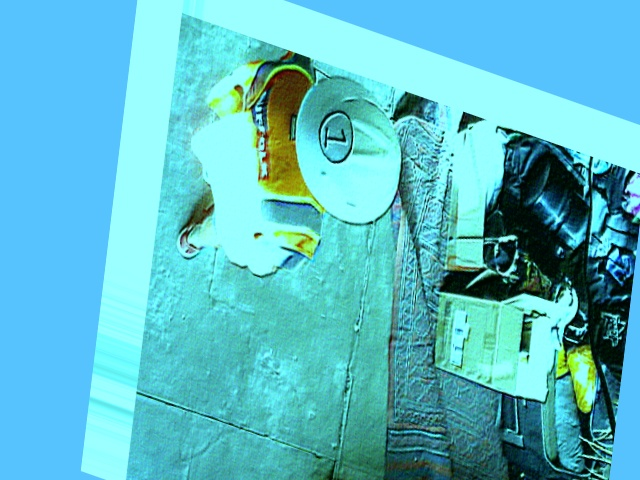one: (315, 105, 356, 170)
